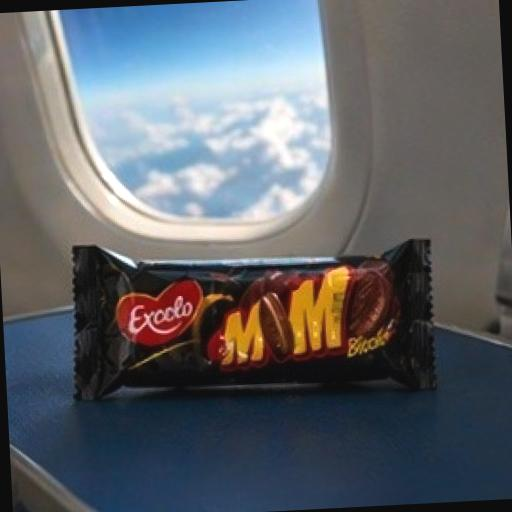MOMO: (32, 156, 484, 490)
